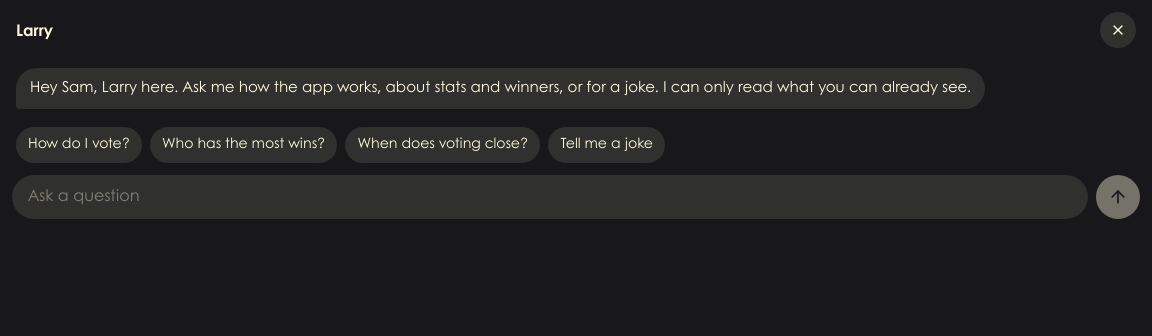
Scenario: Ask Larry panel › never renders a link for a page that is not allowed
The image size is (1152, 336).
Click the button "Tell me a joke": (607, 145) [548,127,665,163]
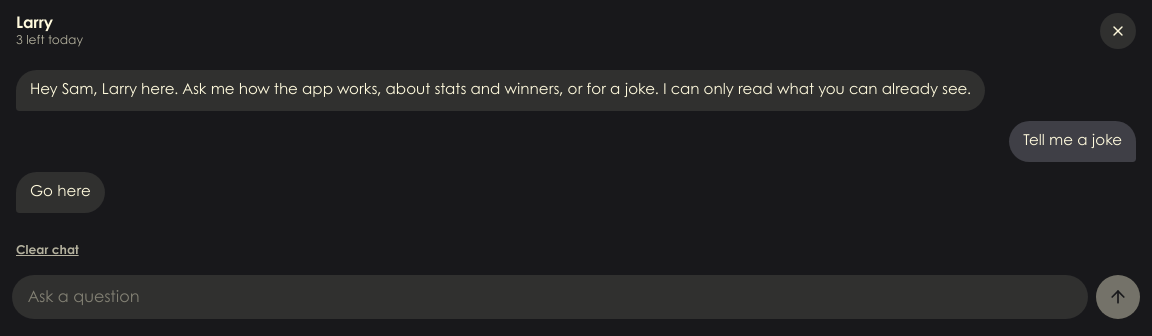
Expected: the text "Go" is shown, [30,185,57,199]
